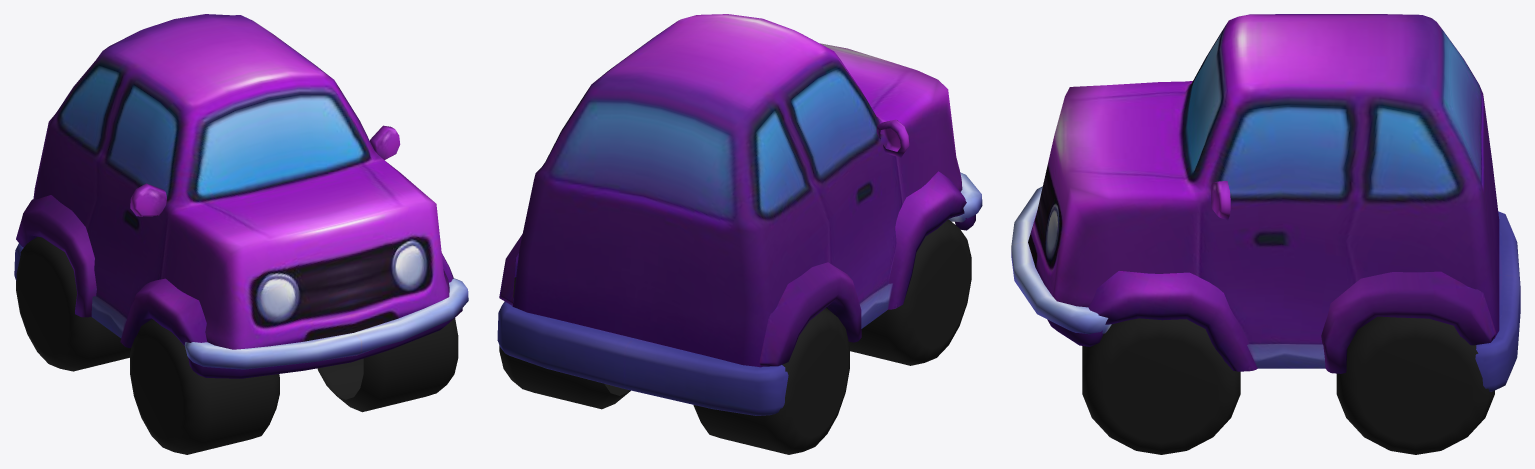
Rendered from Tim.fbx.
The picture shows the model from 3 angles, left to right: view 1: azimuth 30°, elevation 25°; view 2: azimuth 150°, elevation 25°; view 3: azimuth 270°, elevation 25°; orthographic projection. The views are drawn at different scales.
Visible parts, largest first — view 1: Tim, TimBanh; view 2: Tim, TimBanh; view 3: Tim, TimBanh.
Part boxes in pixels (<box>): Tim: <box>14,14,468,378</box>; TimBanh: <box>16,236,458,454</box>; Tim: <box>497,14,982,415</box>; TimBanh: <box>499,219,971,454</box>; Tim: <box>1011,14,1520,391</box>; TimBanh: <box>1082,316,1494,454</box>.
Bounding box in the file's own units: 1.78 × 2.53 × 1.93.
